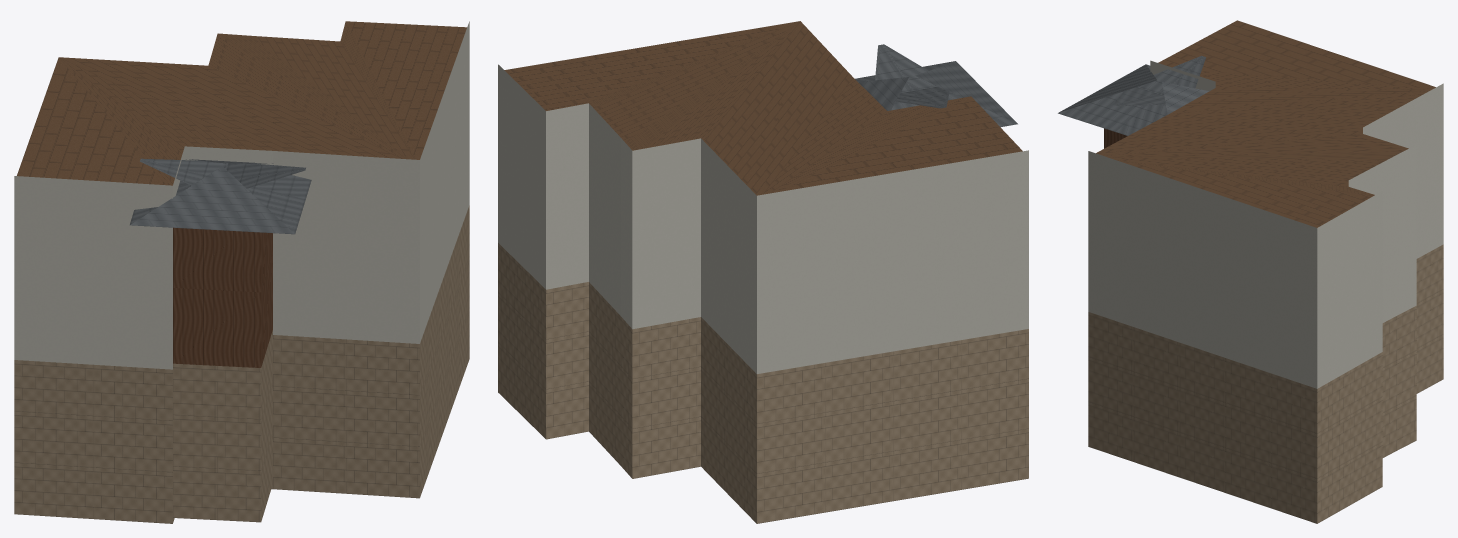
The model's file is bld_c42_46_197.gltf.
The picture shows the model from 3 angles, left to right: view 1: azimuth 30°, elevation 25°; view 2: azimuth 150°, elevation 25°; view 3: azimuth 270°, elevation 25°; orthographic projection. The views are drawn at different scales.
Parts seen in each view (by area): view 1: bld_c42_46_197; view 2: bld_c42_46_197; view 3: bld_c42_46_197.
Boxes of the visible parts, x1,y1,x2,y2 form: bld_c42_46_197: (14,21,469,523); bld_c42_46_197: (498,21,1028,523); bld_c42_46_197: (1058,20,1443,523).
Size of the model in its own units: 17.33 by 11.3 by 13.22.
6 materials, 6 textured.
